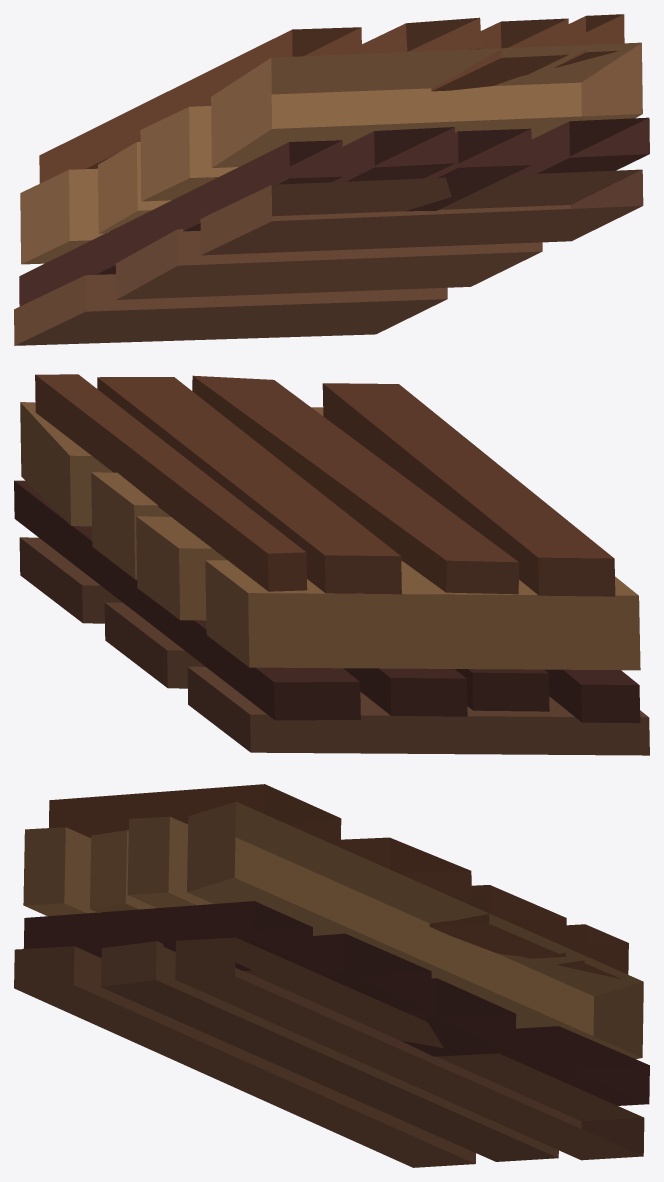
Rendered from icon_planks_old.fbx.
The picture shows the model from 3 angles, top to bottom: view 1: azimuth 30°, elevation 25°; view 2: azimuth 150°, elevation 25°; view 3: azimuth 330°, elevation 25°; orthographic projection. The views are drawn at different scales.
Parts seen in each view (by area): view 1: icon_planks; view 2: icon_planks; view 3: icon_planks.
Part boxes in pixels (<box>): icon_planks: <box>14,14,649,345</box>; icon_planks: <box>14,374,649,755</box>; icon_planks: <box>14,784,649,1167</box>.
Size of the model in its own units: 55.12 by 30.15 by 5.34.
